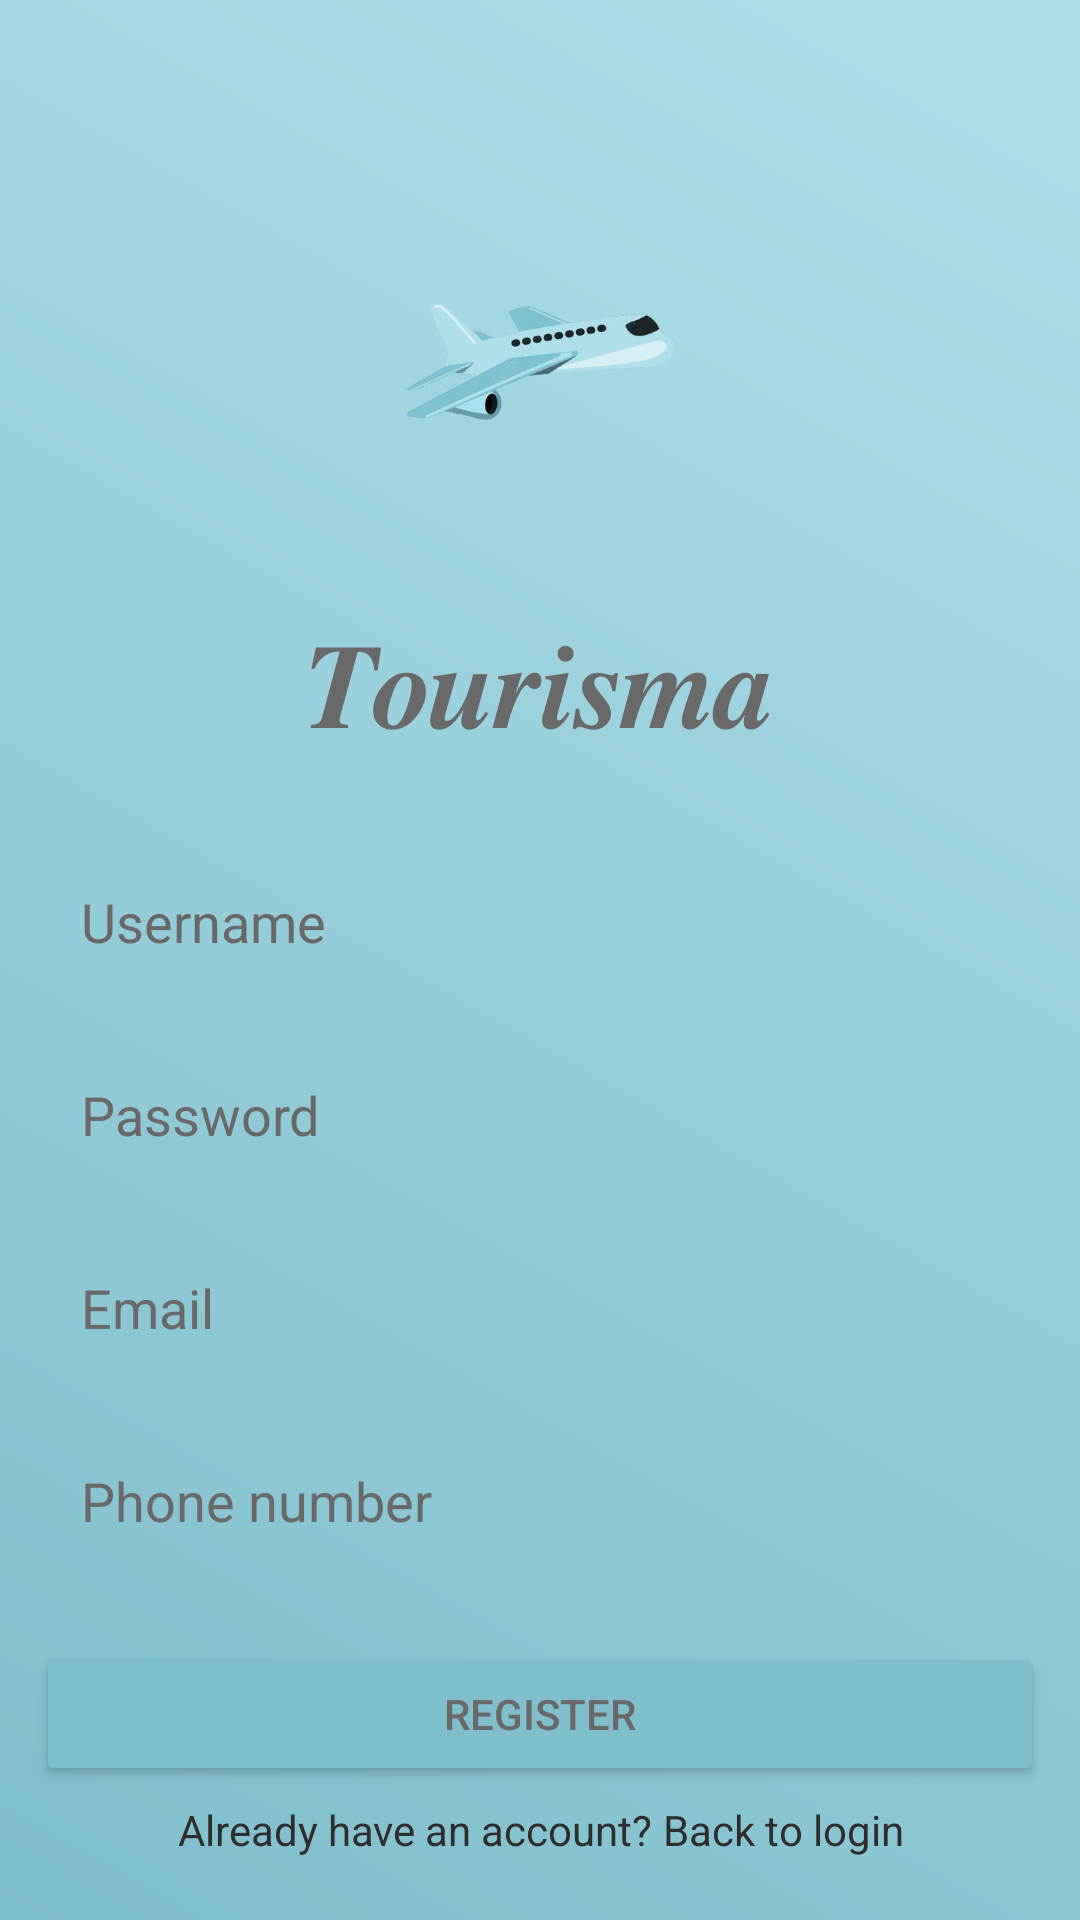

Named icons in this screenshot (1080×1920) and their bounding boxes, rect(x1, y1, x2, y2):
flight: rect(407, 305, 667, 420)
